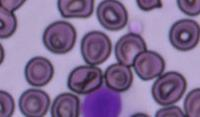L: (78, 84, 131, 117)
